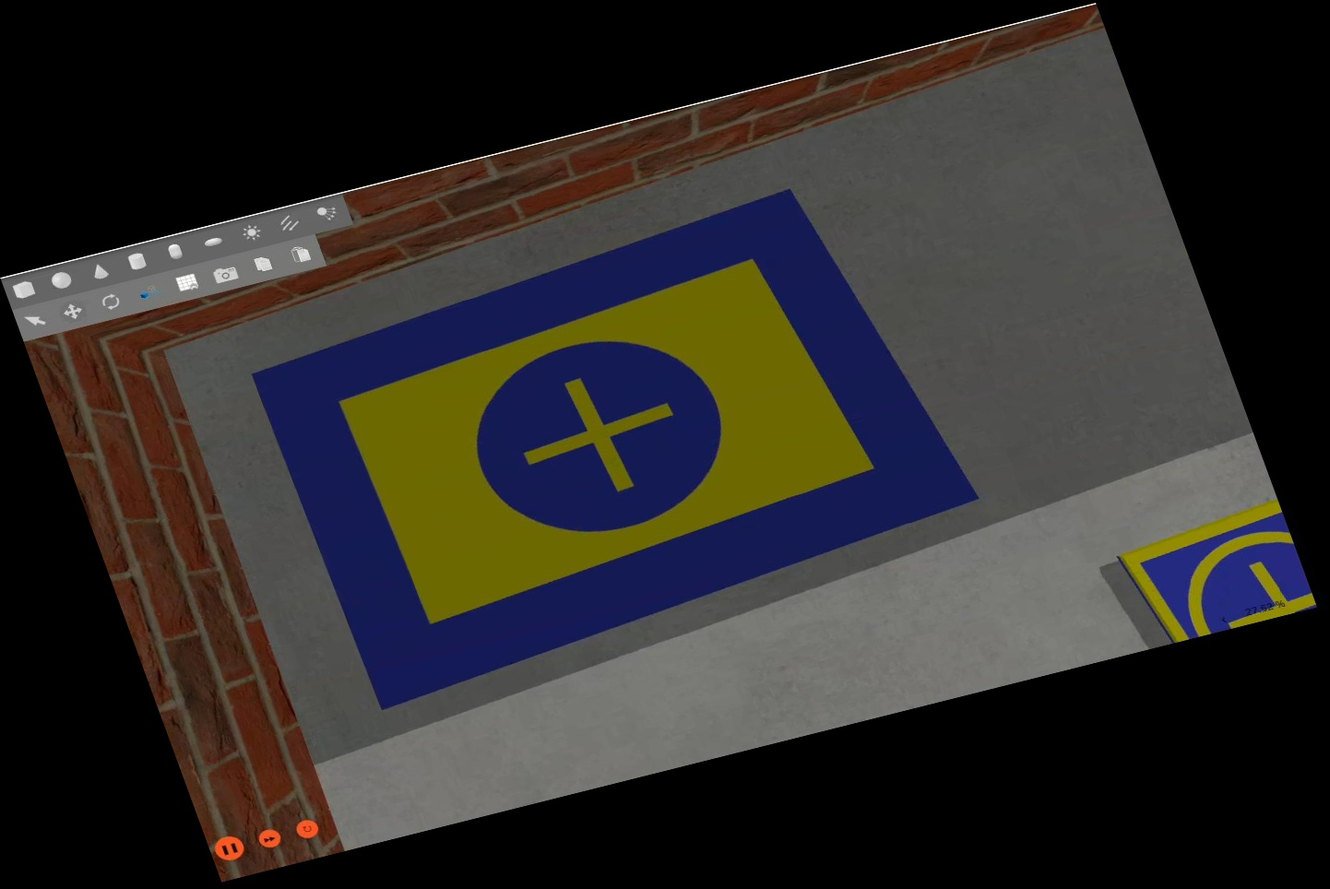large_base: (230, 166, 1003, 716)
small_base: (1110, 498, 1317, 647)
